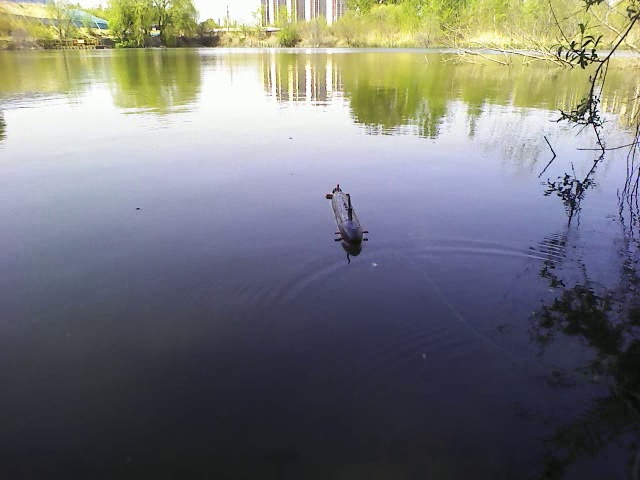submarine: (325, 182, 375, 250)
